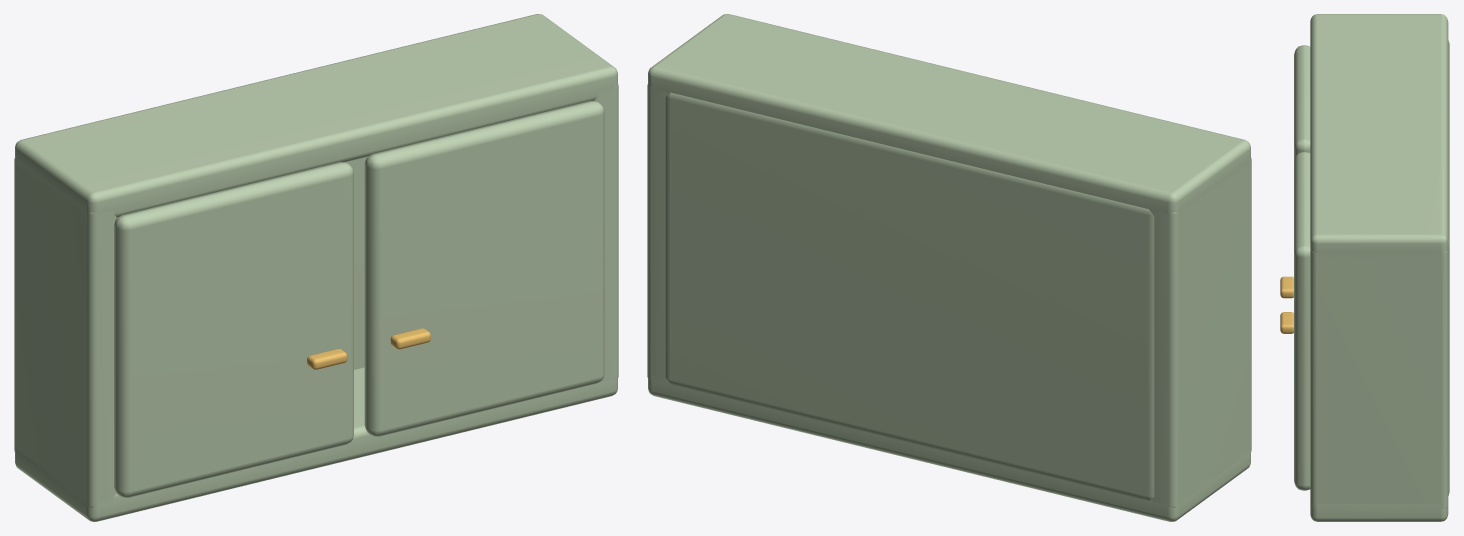
File: kitchenWallCabinetSage.glb
3 renders of one model, left to right at view 1: azimuth 30°, elevation 25°; view 2: azimuth 150°, elevation 25°; view 3: azimuth 270°, elevation 25°, orthographic. The views are drawn at different scales.
Visible parts, largest first — view 1: Wall cabinet door.001, Wall cabinet door, Cabinet top and bottom.001, Cabinet side, Cabinet top and bottom, Cabinet side.001, Cabinet back; view 2: Cabinet back, Cabinet top and bottom.001, Cabinet side, Cabinet top and bottom, Cabinet side.001; view 3: Cabinet side.001, Cabinet top and bottom.001, Wall cabinet door.001, Cabinet top and bottom, Wall cabinet door, Cabinet back, Cabinet handle, Cabinet handle.001.
Boxes of the visible parts, <box> form: Wall cabinet door.001: <box>364,101,604,436</box>; Wall cabinet door: <box>114,162,353,497</box>; Cabinet top and bottom.001: <box>15,14,617,217</box>; Cabinet side: <box>14,158,116,507</box>; Cabinet top and bottom: <box>15,367,617,521</box>; Cabinet side.001: <box>593,84,618,383</box>; Cabinet back: <box>345,157,367,369</box>; Cabinet back: <box>665,92,1154,500</box>; Cabinet top and bottom.001: <box>648,14,1250,216</box>; Cabinet side: <box>1152,158,1251,507</box>; Cabinet top and bottom: <box>648,376,1250,521</box>; Cabinet side.001: <box>647,84,667,383</box>; Cabinet side.001: <box>1310,250,1448,508</box>; Cabinet top and bottom.001: <box>1310,14,1448,257</box>; Wall cabinet door.001: <box>1294,152,1310,490</box>; Cabinet top and bottom: <box>1310,504,1448,521</box>; Wall cabinet door: <box>1294,45,1310,160</box>; Cabinet back: <box>1448,40,1449,495</box>; Cabinet handle: <box>1280,276,1293,298</box>; Cabinet handle.001: <box>1280,312,1293,333</box>.
Bounding box in the file's own units: 1.82 × 1.08 × 0.577.
